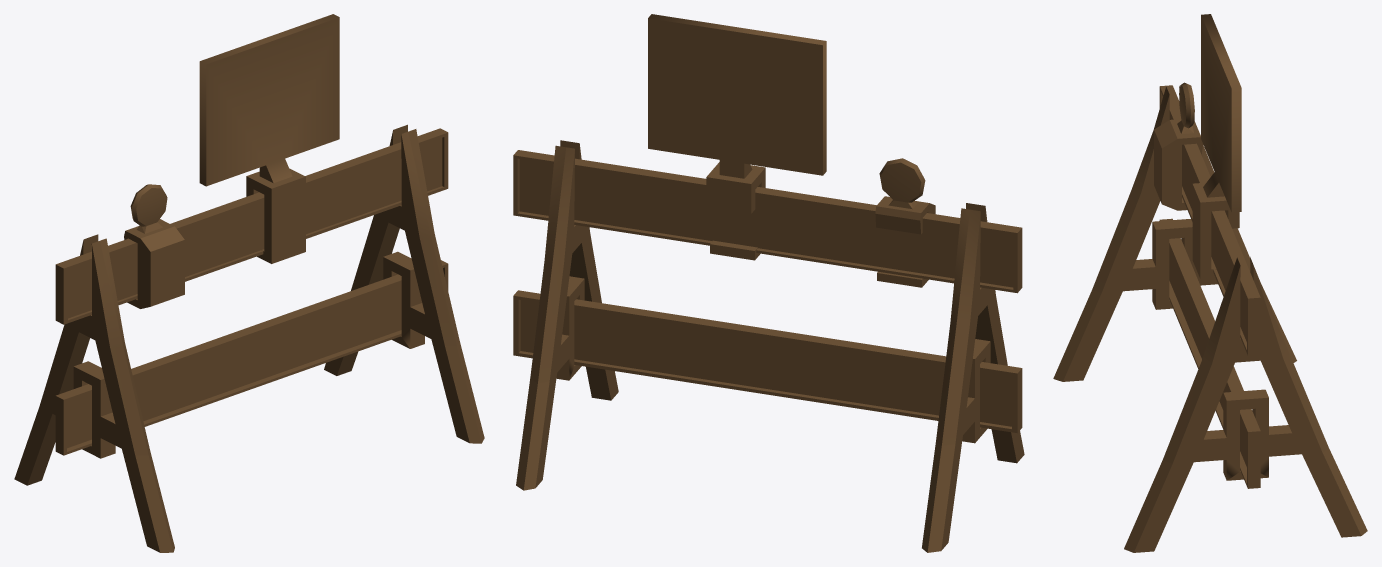
The model's file is Barricade.fbx.
The picture shows the model from 3 angles, left to right: view 1: azimuth 30°, elevation 25°; view 2: azimuth 150°, elevation 25°; view 3: azimuth 270°, elevation 25°; orthographic projection. The views are drawn at different scales.
Parts seen in each view (by area): view 1: Baricade001; view 2: Baricade001; view 3: Baricade001.
Part boxes in pixels (<box>): Baricade001: <box>14,14,484,552</box>; Baricade001: <box>513,14,1024,552</box>; Baricade001: <box>1053,14,1367,552</box>.
Size of the model in its own units: 40.11 by 36.5 by 24.99.
